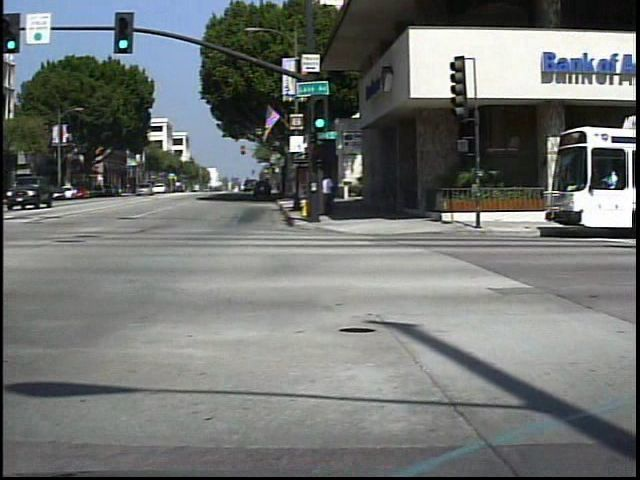person: (327, 169, 345, 218)
